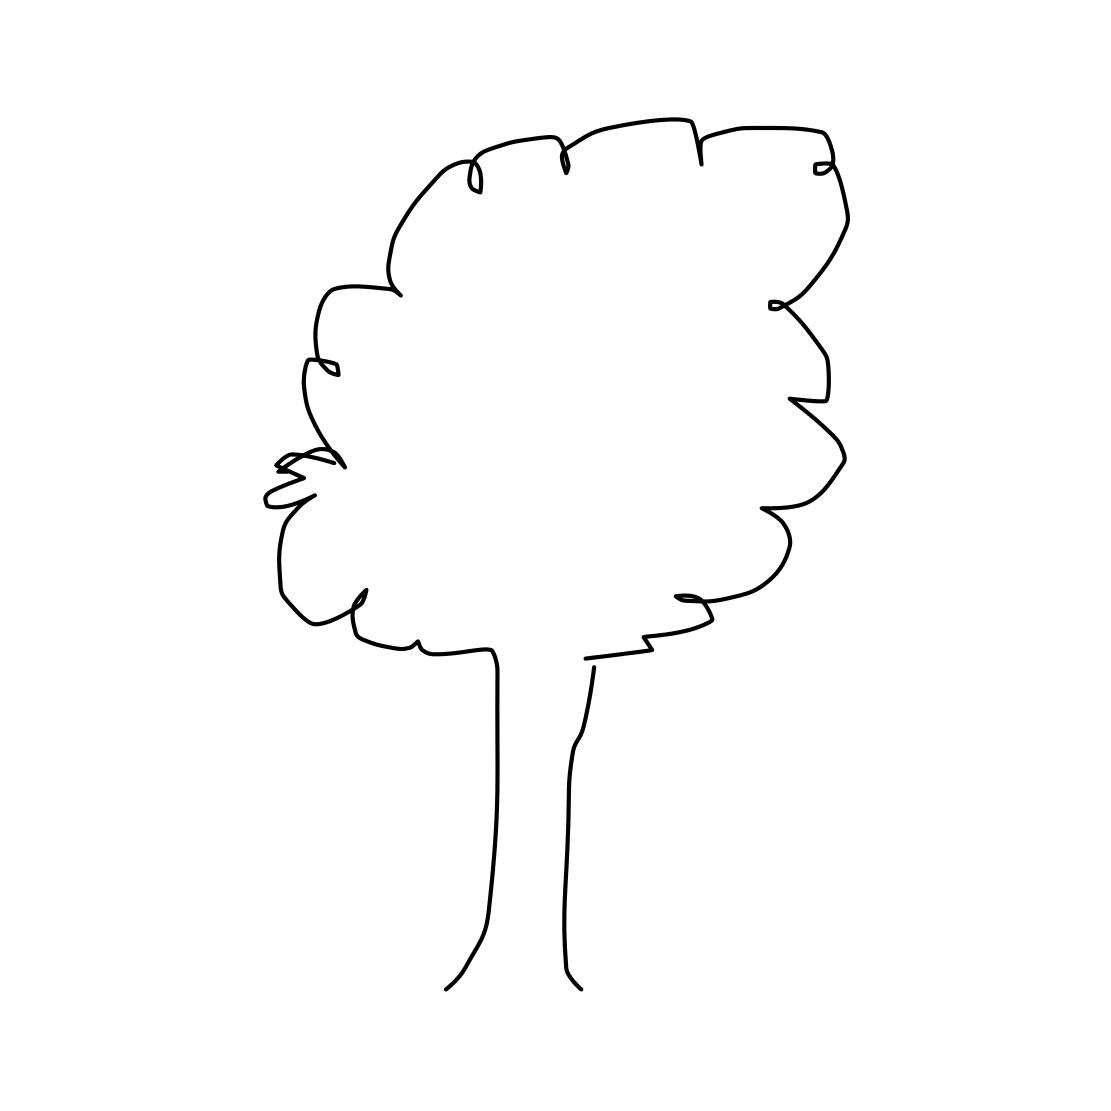Tree: (257, 70, 882, 1000)
